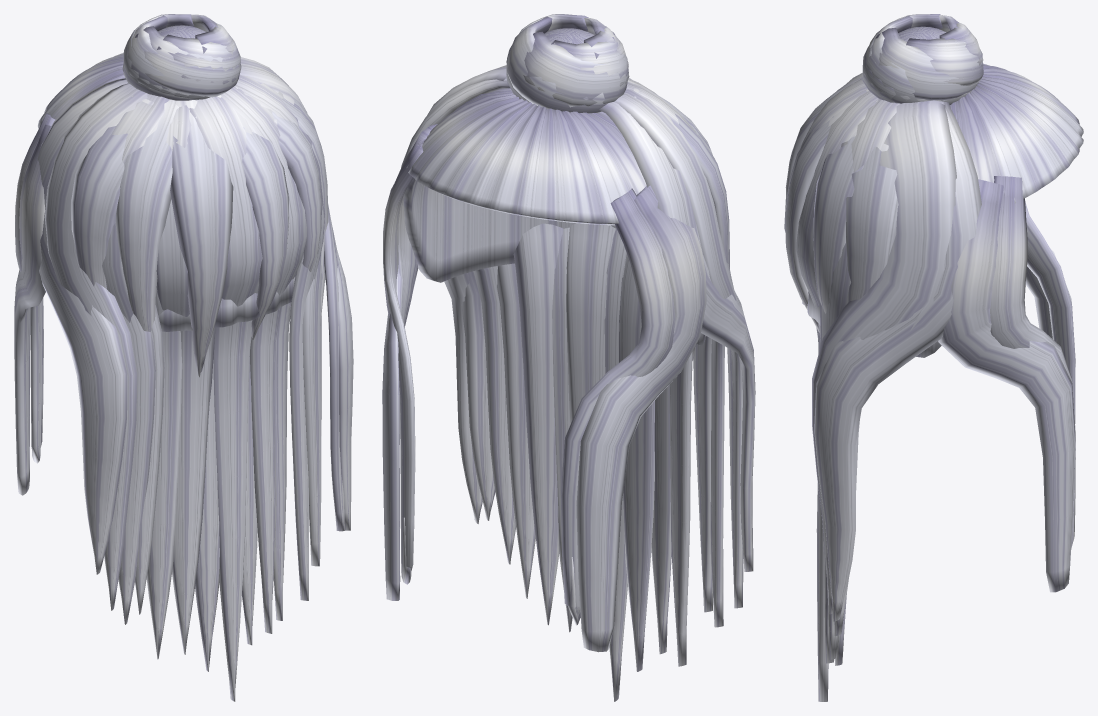
Rendered from seraphine_hair.fbx.
3 views of the same model, side by side, from view 1: azimuth 30°, elevation 25°; view 2: azimuth 150°, elevation 25°; view 3: azimuth 270°, elevation 25° (orthographic). The views are drawn at different scales.
Parts seen in each view (by area): view 1: SeraphineHair; view 2: SeraphineHair; view 3: SeraphineHair.
Part boxes in pixels (x1=…): SeraphineHair: x1=14, y1=14, x2=353, y2=701; SeraphineHair: x1=382, y1=14, x2=755, y2=701; SeraphineHair: x1=784, y1=14, x2=1083, y2=701.
Size of the model in its own units: 171 by 383 by 155.
1 material, 1 textured.
